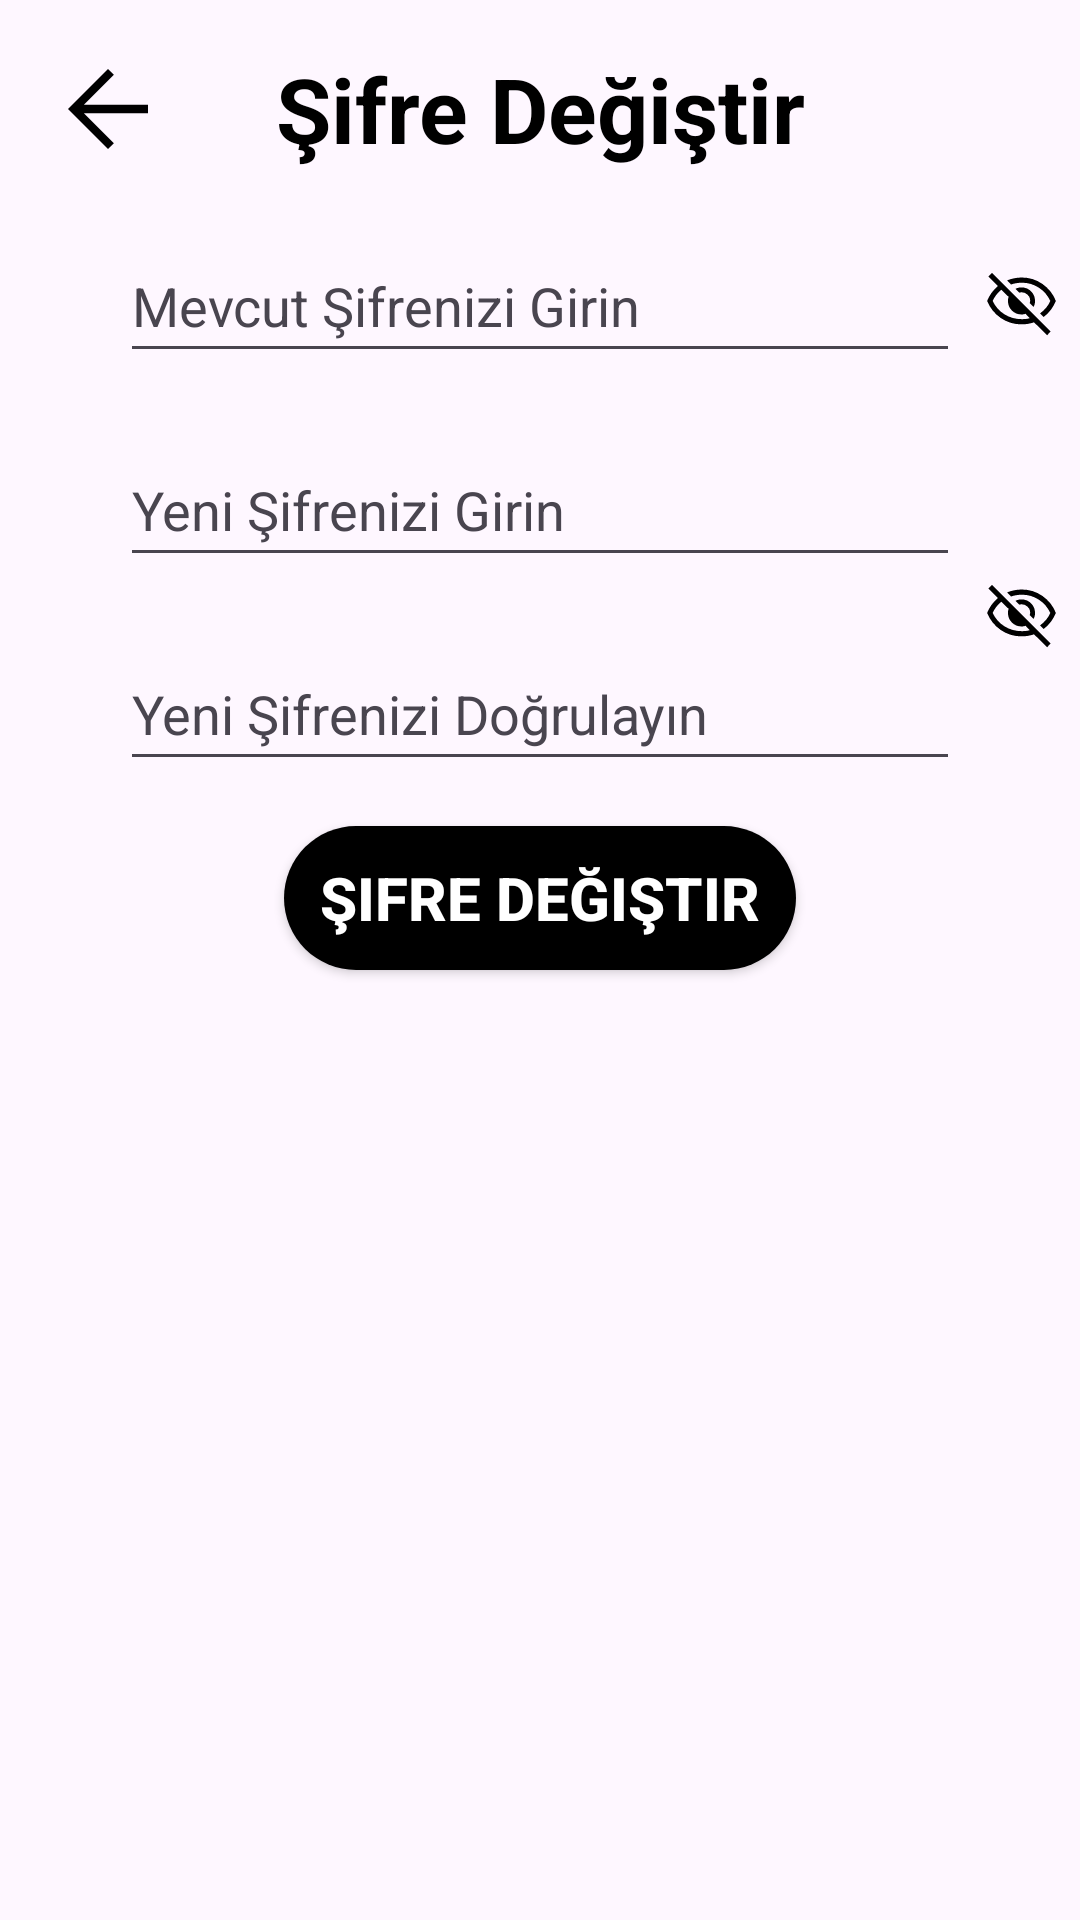

Icons on this 1080 x 1920 Android screen, each with the point to tap as [x,y]:
back: [108,109]
visibility off: [1021,304], [1021,616]
